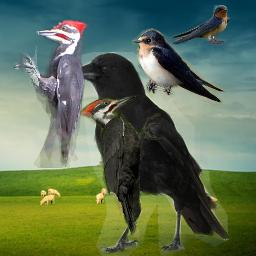Crow: (59, 52, 230, 256)
Swallow: (132, 28, 225, 106), (161, 5, 230, 45)
Woodpecker: (80, 95, 161, 237), (13, 20, 89, 168)
